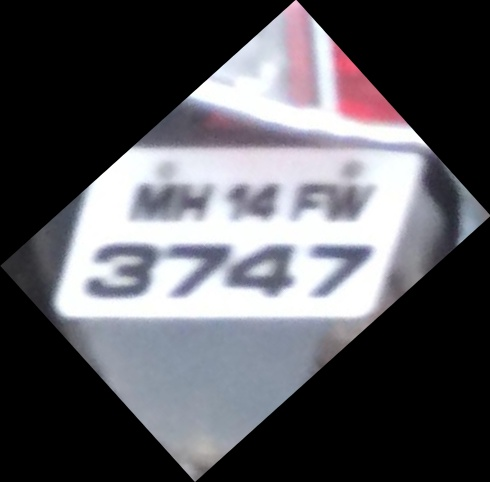character: (83, 241, 158, 299), (221, 241, 294, 298), (164, 241, 230, 299), (308, 242, 372, 297)
